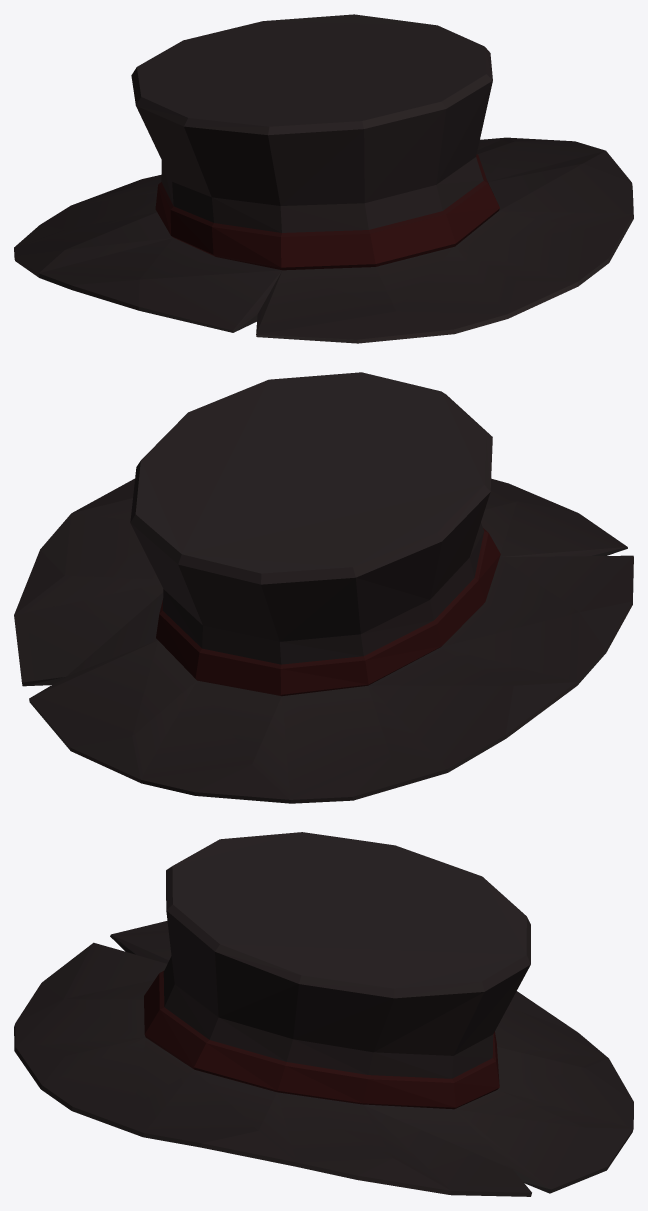
The model's file is plagueDoctorTopHatFemale.glb.
3 views of the same model, one above another, from view 1: azimuth 30°, elevation 25°; view 2: azimuth 150°, elevation 25°; view 3: azimuth 270°, elevation 25° (orthographic).
Visible parts, largest first — view 1: plagueDoctorTopHat; view 2: plagueDoctorTopHat; view 3: plagueDoctorTopHat.
Boxes of the visible parts, x1,y1,x2,y2 form: plagueDoctorTopHat: (14, 14, 633, 343); plagueDoctorTopHat: (14, 372, 633, 803); plagueDoctorTopHat: (14, 832, 633, 1196).
Bounding box in the file's own units: 0.4696 × 0.1987 × 0.4762.
